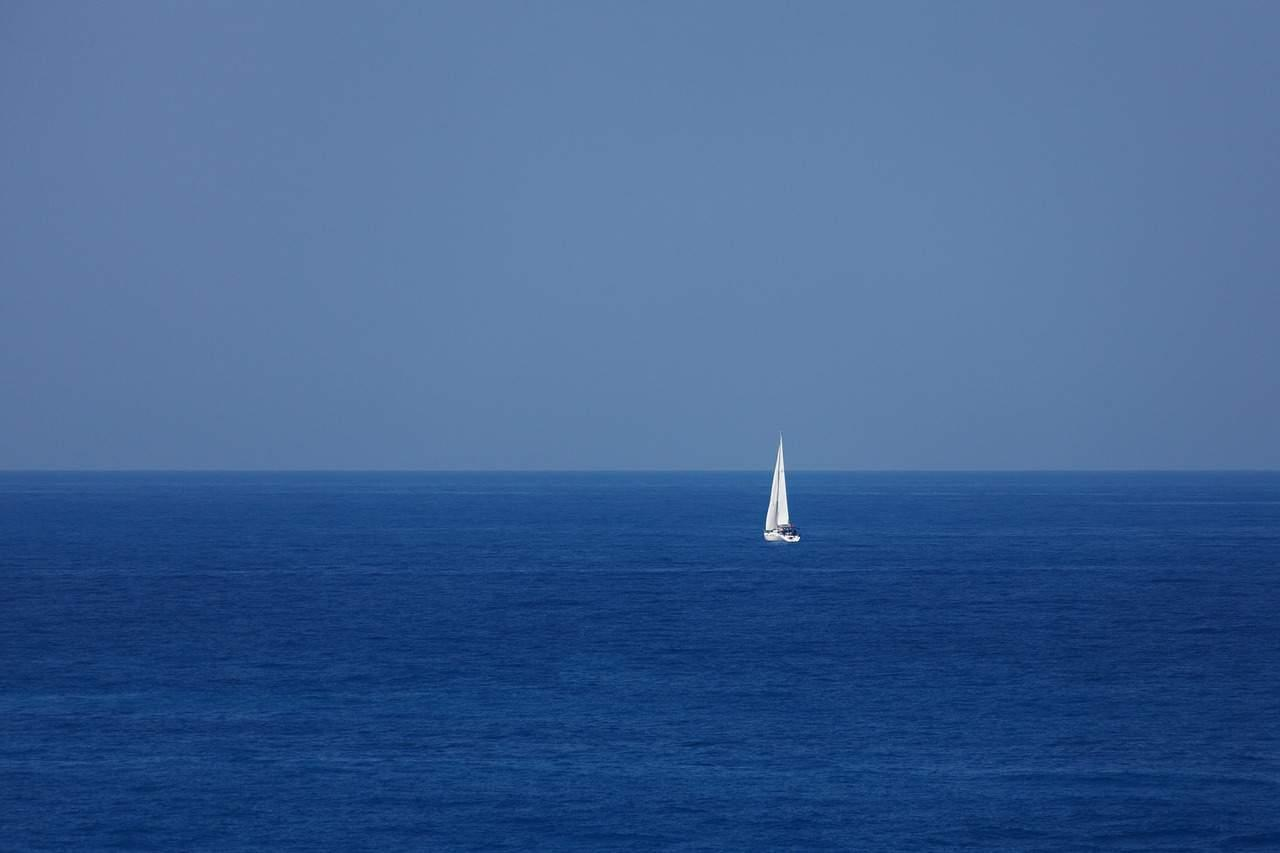Ship: (762, 431, 806, 547)
